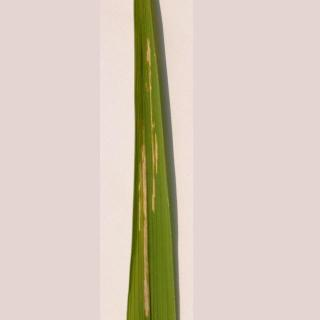Hawar-Daun: (133, 30, 173, 222), (128, 156, 162, 316)
